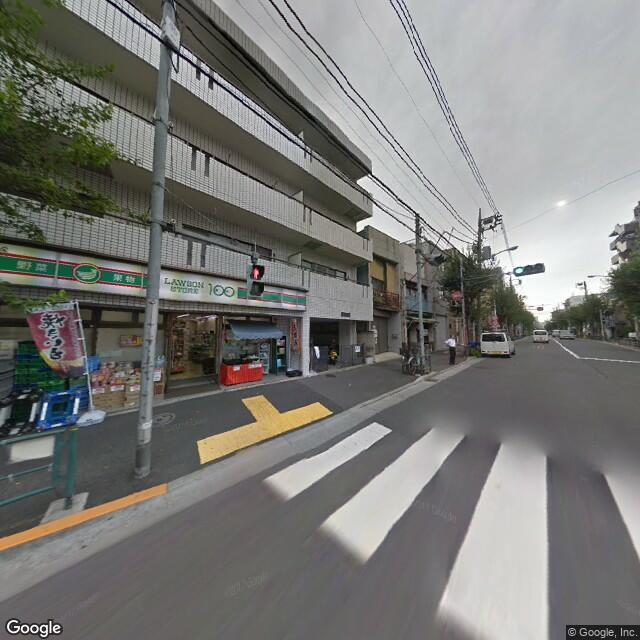lawson: (1, 242, 305, 316)
